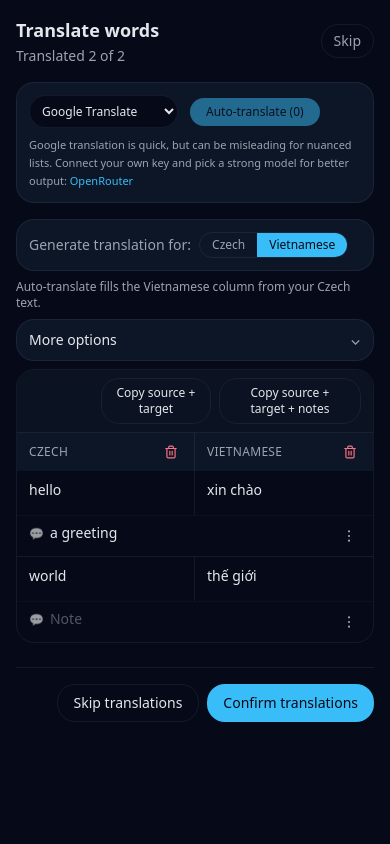
Test: TranslationStep Google usage gating › copies source, translated texts, and notes when notes exist
Click the button "Copy source + target + notes": (290, 401) [219,378,361,424]
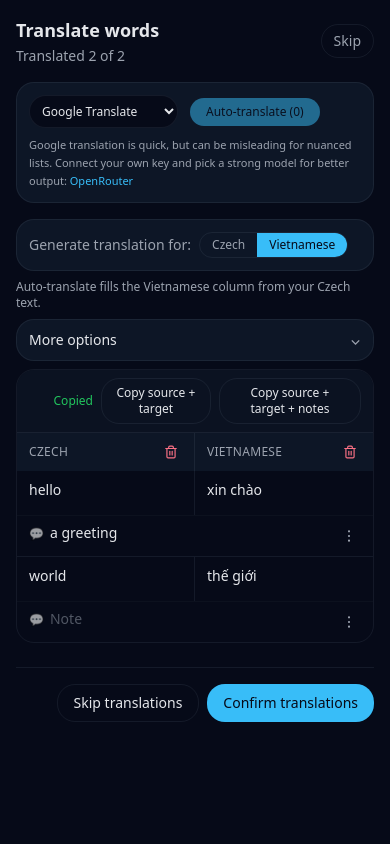
Now the message reads "Copied", box [54,392,93,409]
